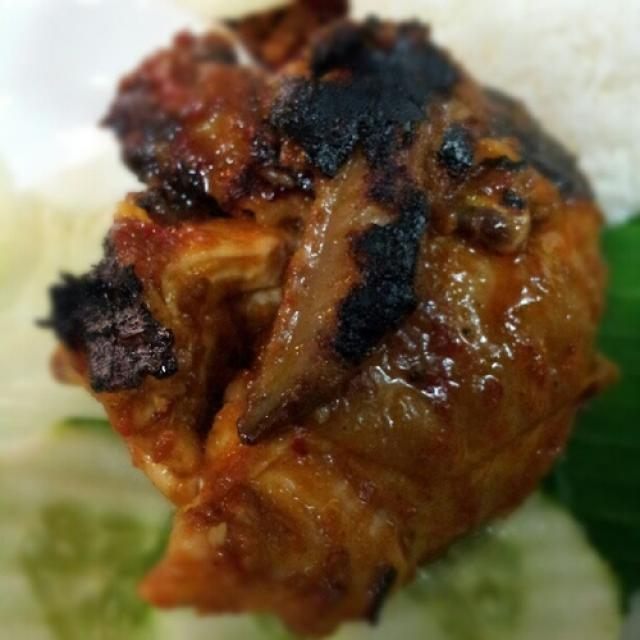鸡肉料理 含炸鸡: (48, 13, 592, 631)
